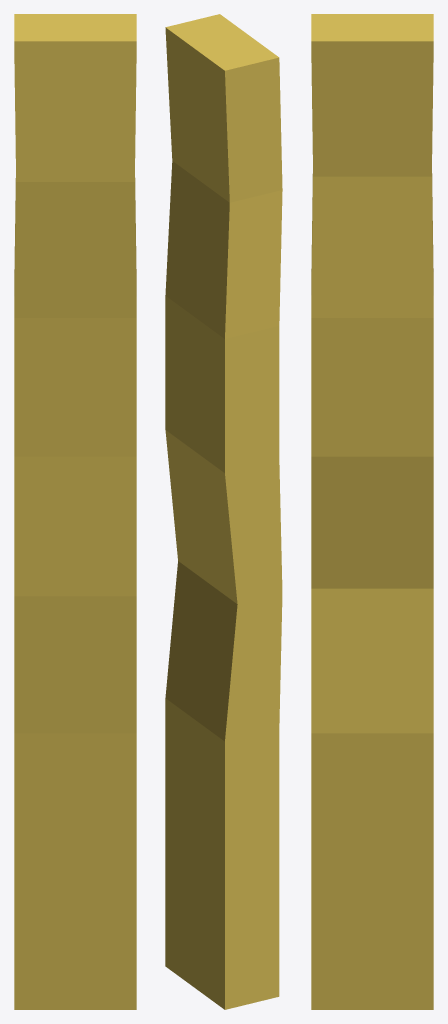
The model's file is 左木柱2.fbx.
The picture shows the model from 3 angles, left to right: view 1: azimuth 90°, elevation 25°; view 2: azimuth 210°, elevation 25°; view 3: azimuth 270°, elevation 25°; orthographic projection. The views are drawn at different scales.
Visible parts, largest first — view 1: L.wood.2; view 2: L.wood.2; view 3: L.wood.2.
Boxes of the visible parts, x1,y1,x2,y2 form: L.wood.2: (14,14,136,1009); L.wood.2: (165,14,282,1009); L.wood.2: (311,14,433,1009).
Size of the model in its own units: 27.2 by 417 by 47.81.
